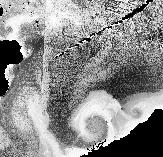CE: (74, 102, 114, 144), (128, 101, 145, 121)
